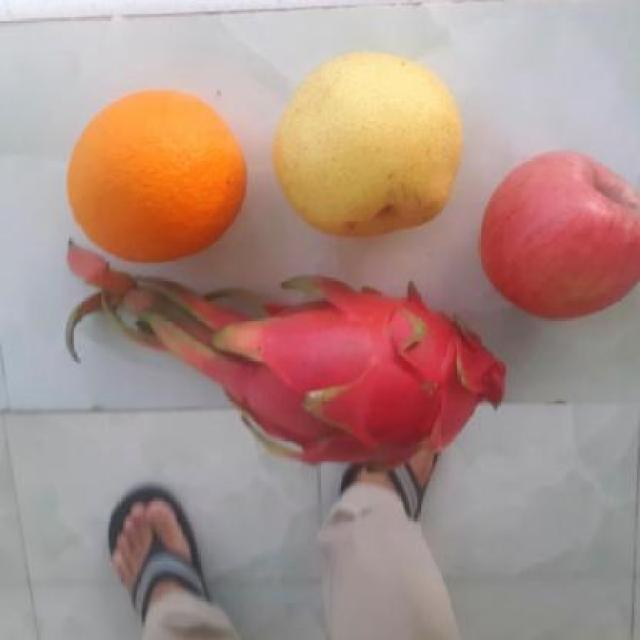apple: (479, 148, 639, 320)
dragon fruit: (232, 281, 519, 467)
oren: (58, 88, 250, 262)
pear: (269, 46, 473, 240)
